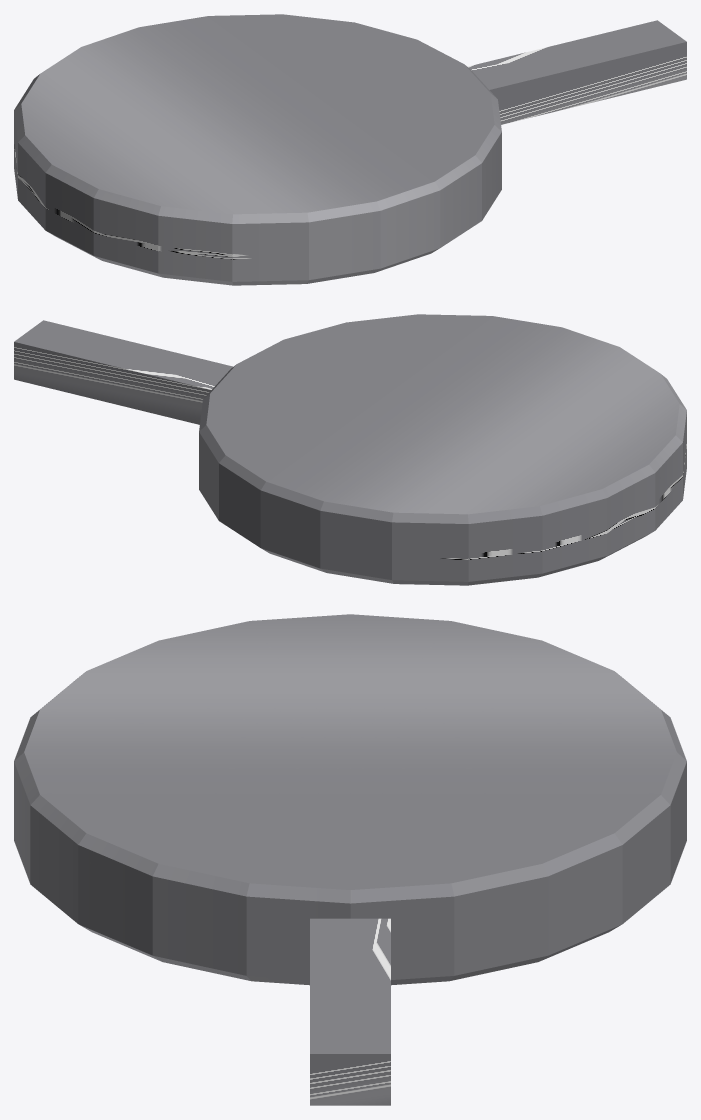
File: pan_small.obj
The picture shows the model from 3 angles, top to bottom: view 1: azimuth 30°, elevation 25°; view 2: azimuth 150°, elevation 25°; view 3: azimuth 270°, elevation 25°; orthographic projection. The views are drawn at different scales.
Parts seen in each view (by area): view 1: pan_small; view 2: pan_small; view 3: pan_small.
Boxes of the visible parts, x1=… form: pan_small: x1=14, y1=14, x2=686, y2=285; pan_small: x1=14, y1=314, x2=686, y2=585; pan_small: x1=14, y1=614, x2=686, y2=1105.
Bounding box in the file's own units: 0.295 × 0.033 × 0.2.
1 material, 1 textured.
